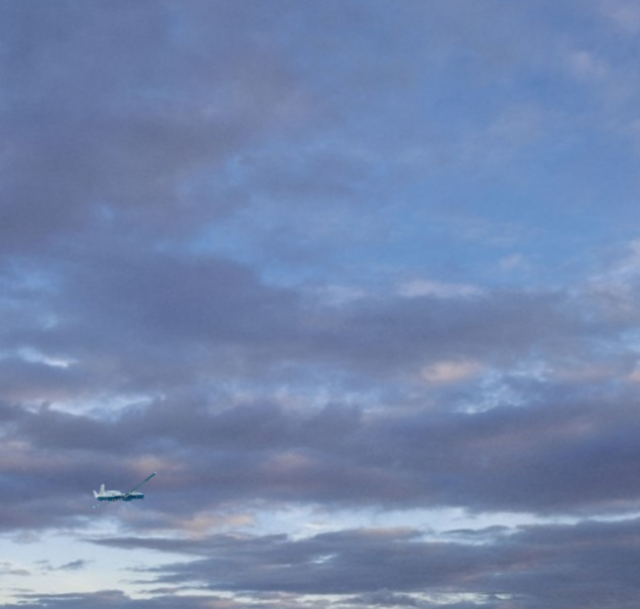military drone: (91, 471, 156, 508)
